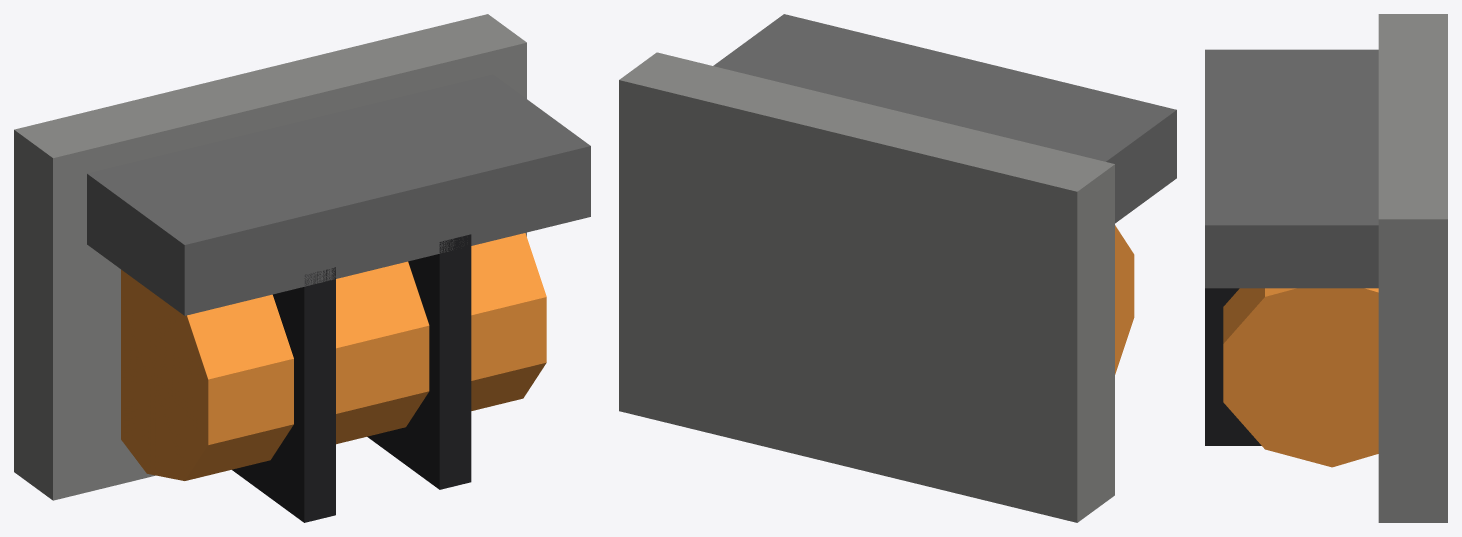
The model's file is vge_emergency_light_orange.obj.
The picture shows the model from 3 angles, left to right: view 1: azimuth 30°, elevation 25°; view 2: azimuth 150°, elevation 25°; view 3: azimuth 270°, elevation 25°; orthographic projection. The views are drawn at different scales.
Visible parts, largest first — view 1: oc_emergency_light_red_1, oc_emergency_light_red_0, oc_emergency_light_red_2, oc_emergency_light_red_4, oc_emergency_light_red_3; view 2: oc_emergency_light_red_0, oc_emergency_light_red_1, oc_emergency_light_red_2; view 3: oc_emergency_light_red_1, oc_emergency_light_red_0, oc_emergency_light_red_2, oc_emergency_light_red_4.
Part boxes in pixels (box(x1,y1,x2,y2)): oc_emergency_light_red_1: box(87, 74, 590, 315); oc_emergency_light_red_0: box(14, 14, 526, 500); oc_emergency_light_red_2: box(121, 233, 546, 480); oc_emergency_light_red_4: box(367, 234, 471, 489); oc_emergency_light_red_3: box(232, 267, 335, 522); oc_emergency_light_red_0: box(619, 52, 1114, 522); oc_emergency_light_red_1: box(713, 14, 1176, 223); oc_emergency_light_red_2: box(1115, 225, 1134, 374); oc_emergency_light_red_1: box(1205, 49, 1378, 288); oc_emergency_light_red_0: box(1378, 14, 1447, 522); oc_emergency_light_red_2: box(1223, 288, 1378, 467); oc_emergency_light_red_4: box(1205, 288, 1261, 445).
Size of the model in its own units: 0.42 by 0.29 by 0.21.
